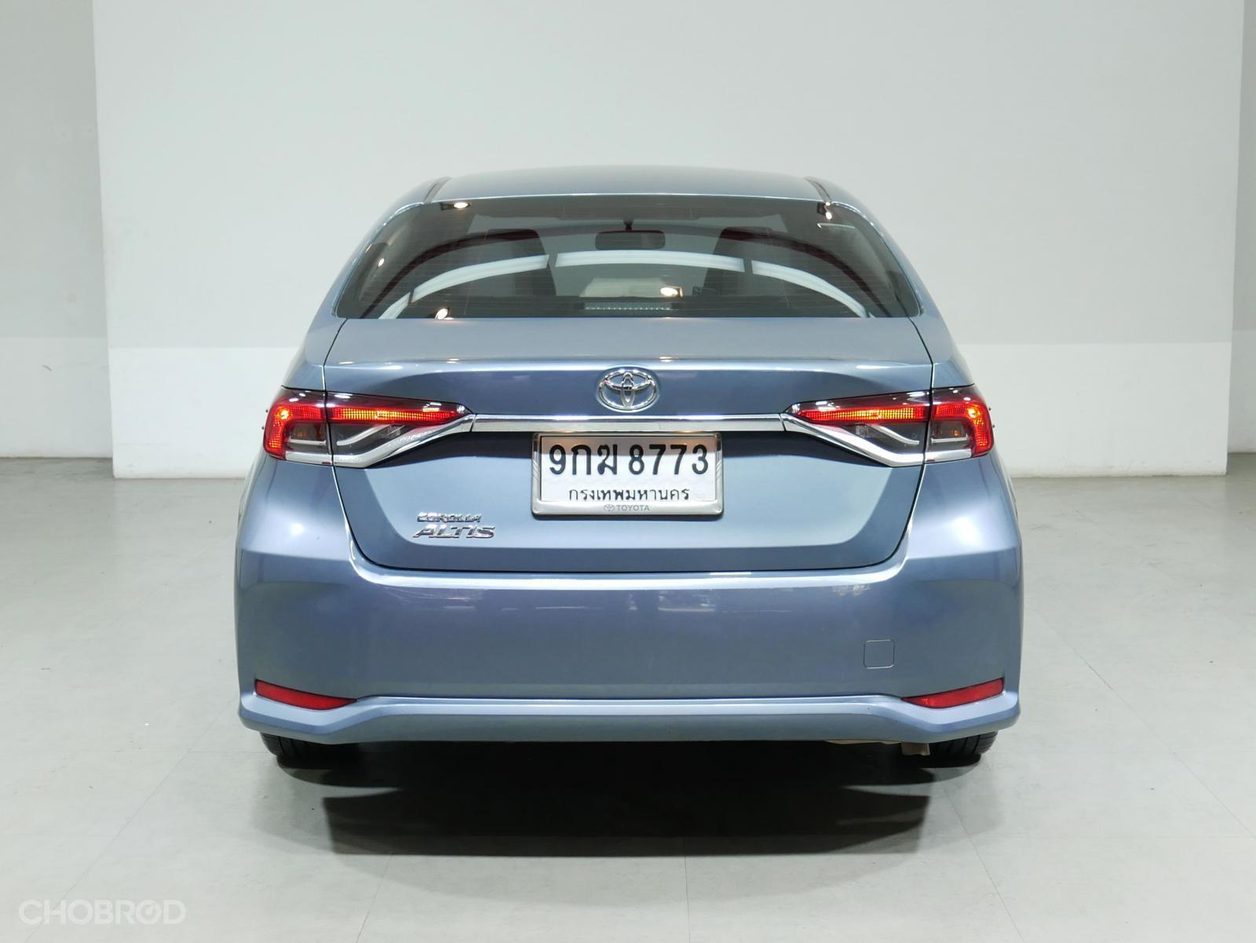license-plate: (533, 427, 726, 519)
